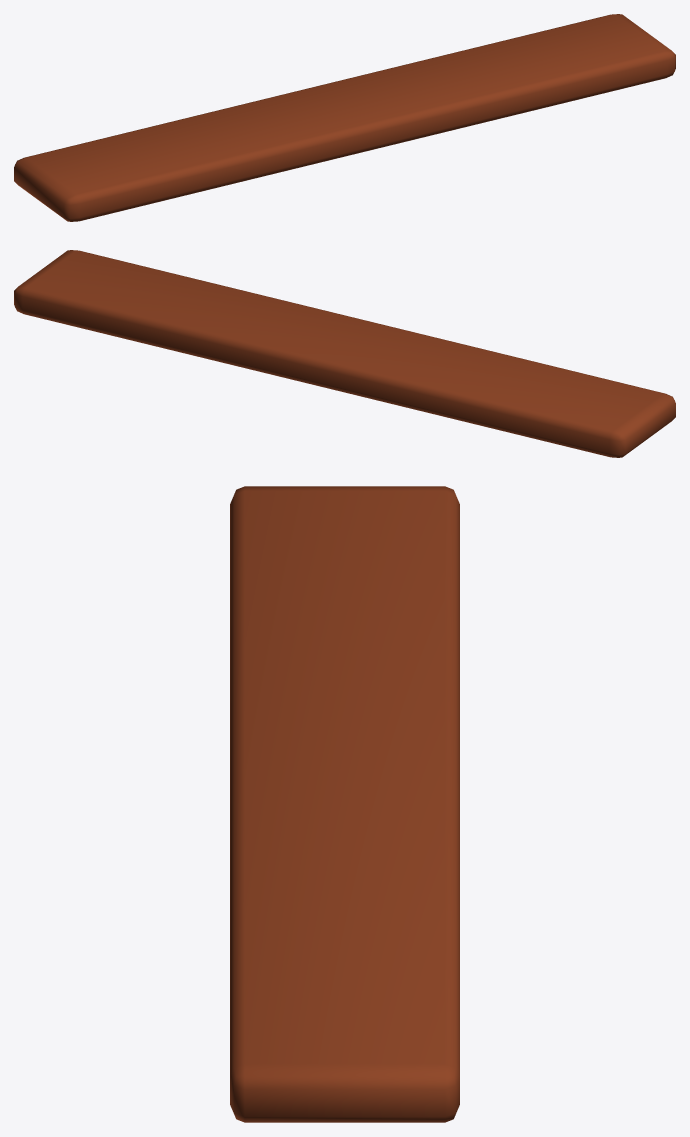
The model's file is planche 4.fbx.
3 renders of one model, top to bottom at view 1: azimuth 30°, elevation 25°; view 2: azimuth 150°, elevation 25°; view 3: azimuth 270°, elevation 25°, orthographic. The views are drawn at different scales.
Parts seen in each view (by area): view 1: Planche 4; view 2: Planche 4; view 3: Planche 4.
Boxes of the visible parts, bbox=[...] form: Planche 4: bbox=[14, 14, 675, 221]; Planche 4: bbox=[14, 250, 675, 457]; Planche 4: bbox=[230, 486, 459, 1122].
Bounding box in the file's own units: 176 × 7.45 × 28.64.
